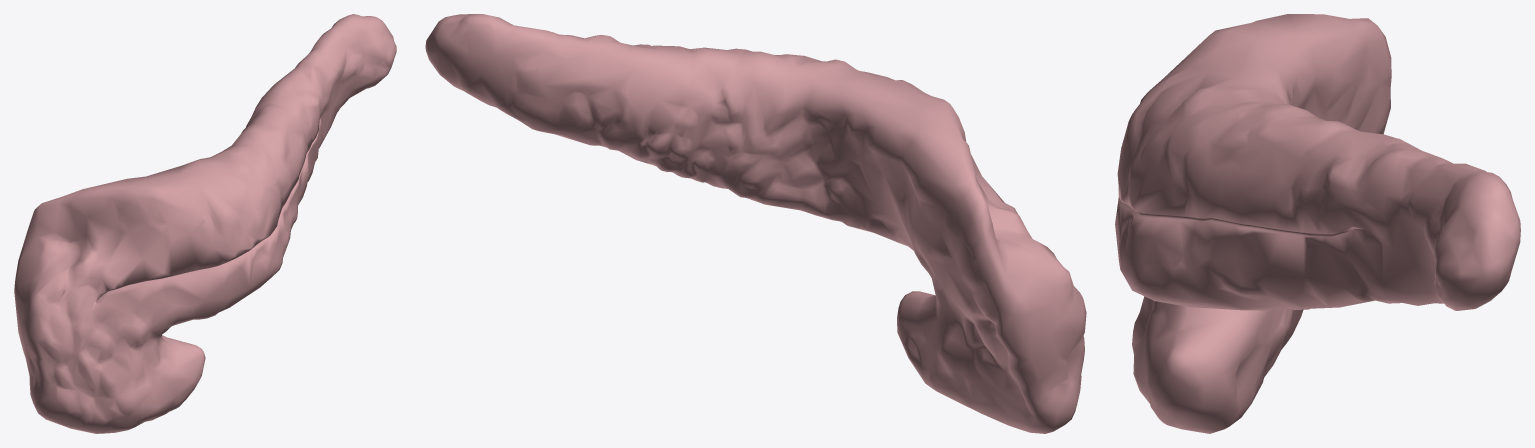
3 renders of one model, left to right at view 1: azimuth 30°, elevation 25°; view 2: azimuth 150°, elevation 25°; view 3: azimuth 270°, elevation 25°, orthographic. The views are drawn at different scales.
Parts seen in each view (by area): view 1: ZA_73e0f83df8e16452; view 2: ZA_73e0f83df8e16452; view 3: ZA_73e0f83df8e16452.
Part boxes in pixels (bbox=[...]): ZA_73e0f83df8e16452: bbox=[14, 14, 396, 433]; ZA_73e0f83df8e16452: bbox=[425, 14, 1086, 433]; ZA_73e0f83df8e16452: bbox=[1115, 14, 1520, 433].
Bounding box in the file's own units: 0.1181 × 0.0737 × 0.0534.
